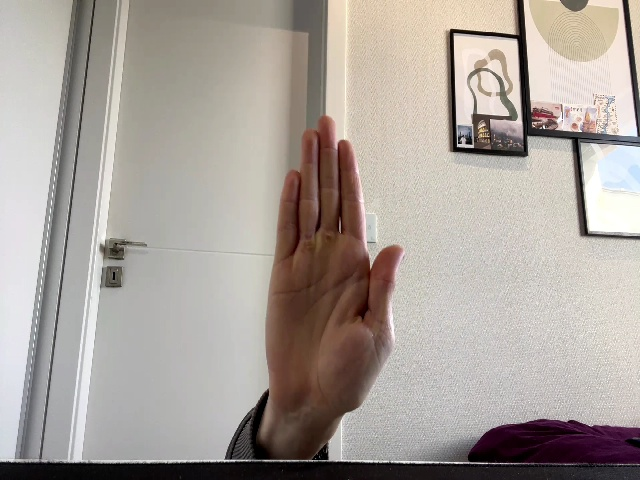B: (266, 116, 404, 421)
